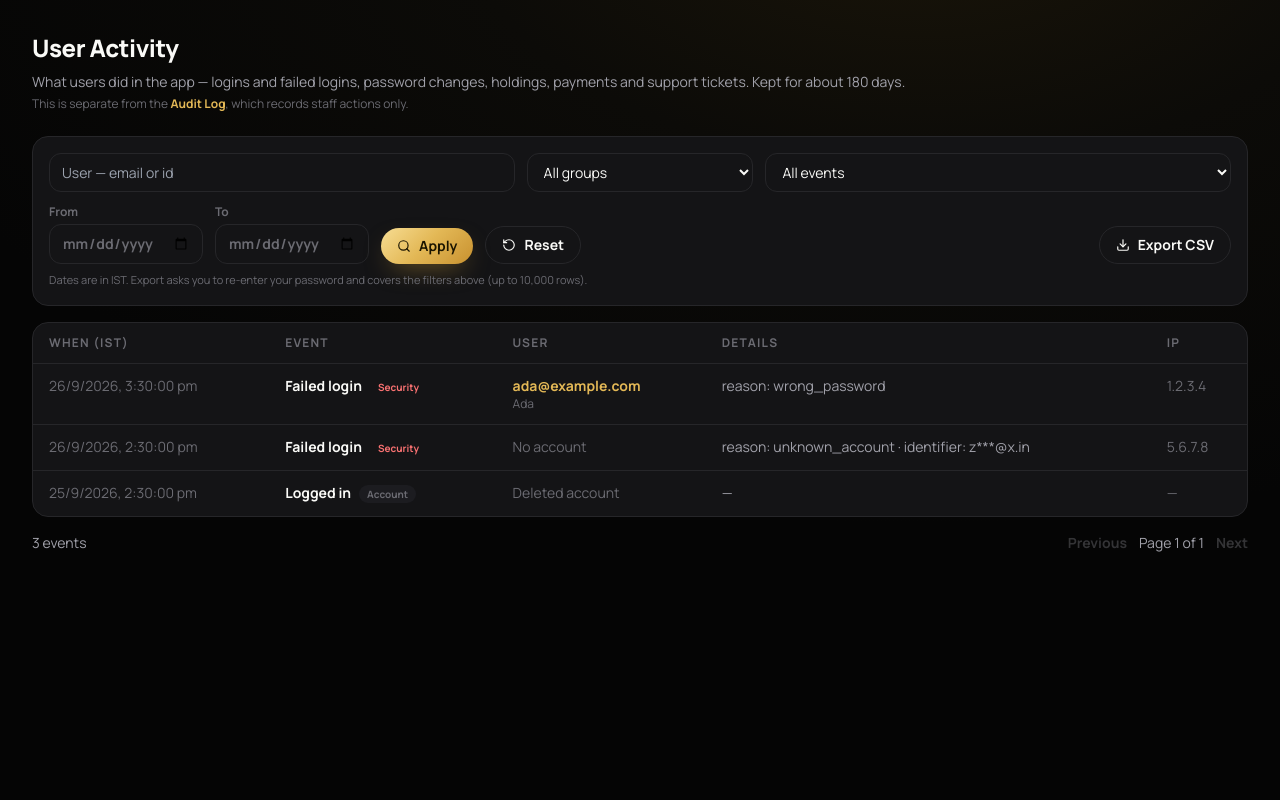
Test: admin UserActivity › CSV export › tells the admin when the row cap cut the export short
Expected: the table with test id "admin-activity-table" is shown, x1=33 y1=322 x2=1247 y2=516
Click the button with test id "admin-activity-export-btn" at coordinates (1165, 245), box x1=1099 y1=226 x2=1231 y2=264
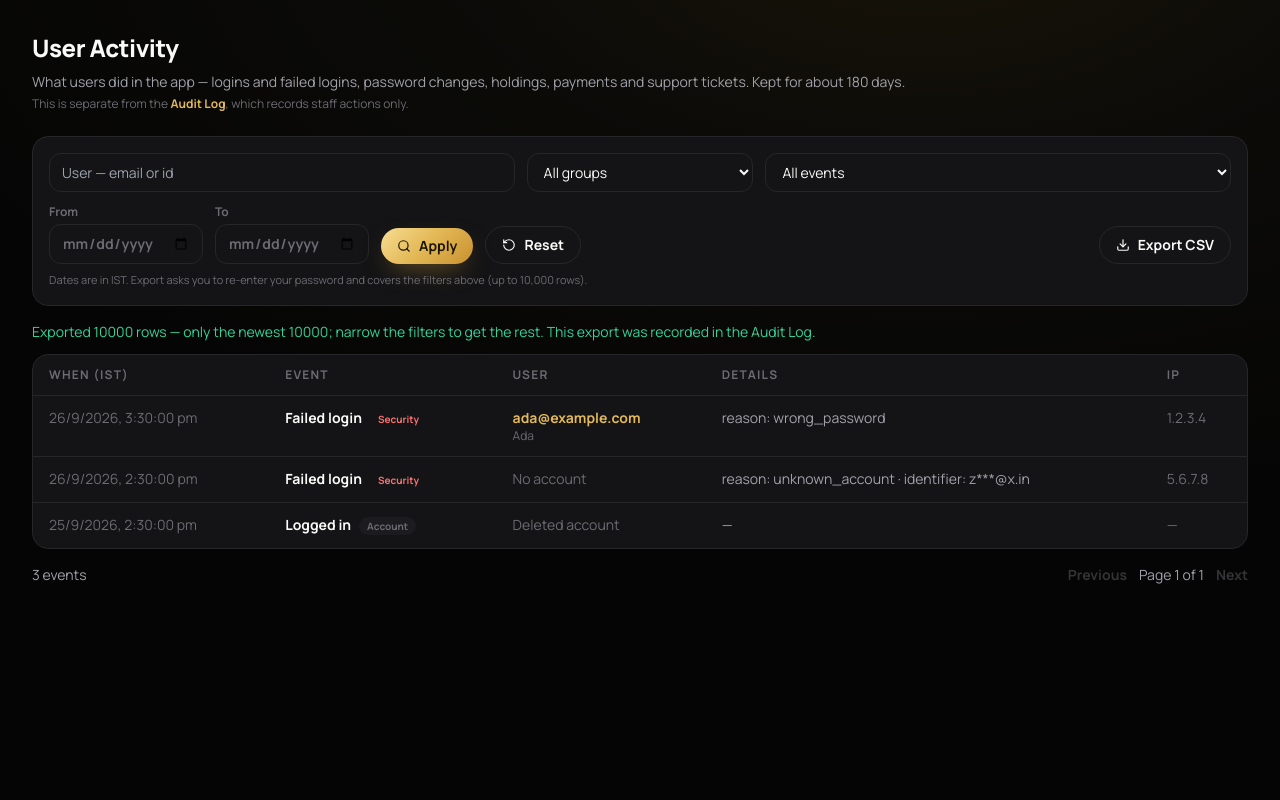
Expected: the text with test id "admin-activity-notice" shows "only the newest 10000", x1=32 y1=322 x2=815 y2=340
